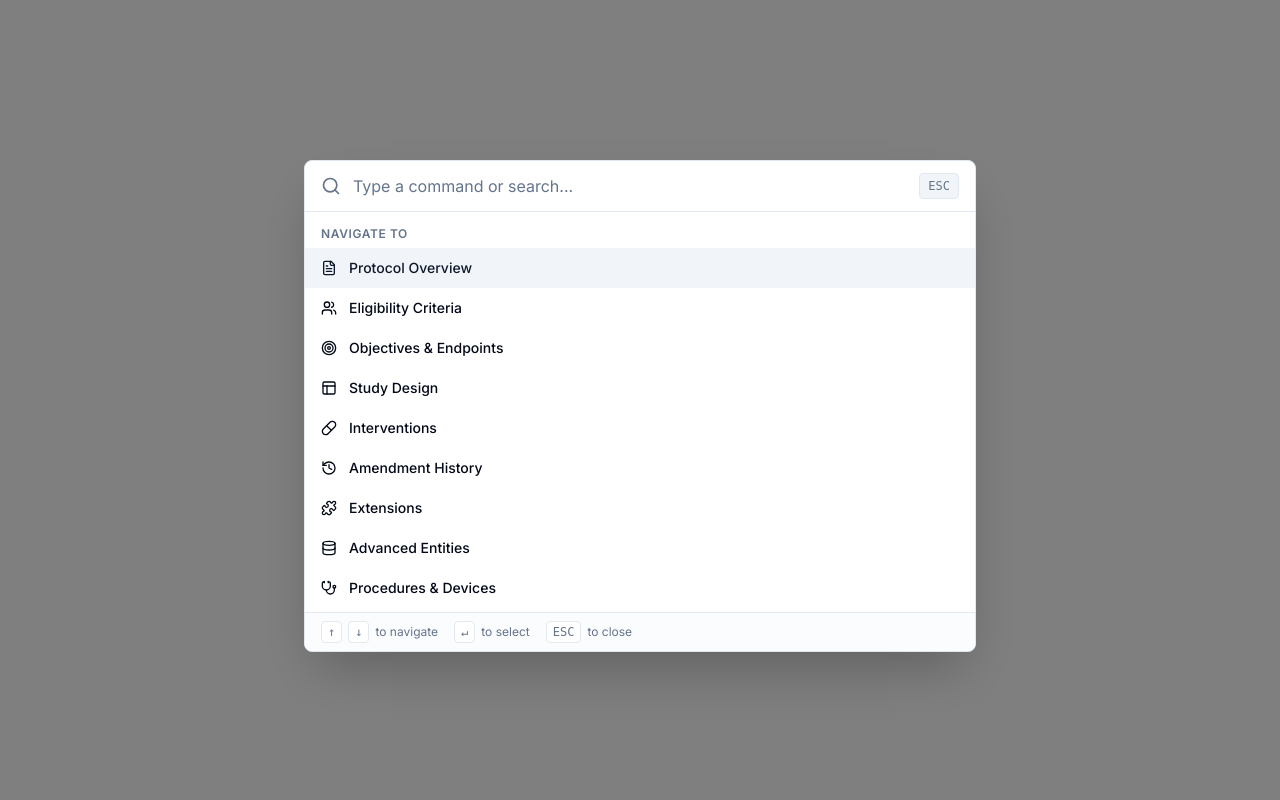
Test: CommandPalette › Fuzzy Search › should reset results when query is cleared
The image size is (1280, 800).
# Type query
Type "soa" into the field with placeholder "Type a command or search..." at [630, 186], box [353,174,907,198]
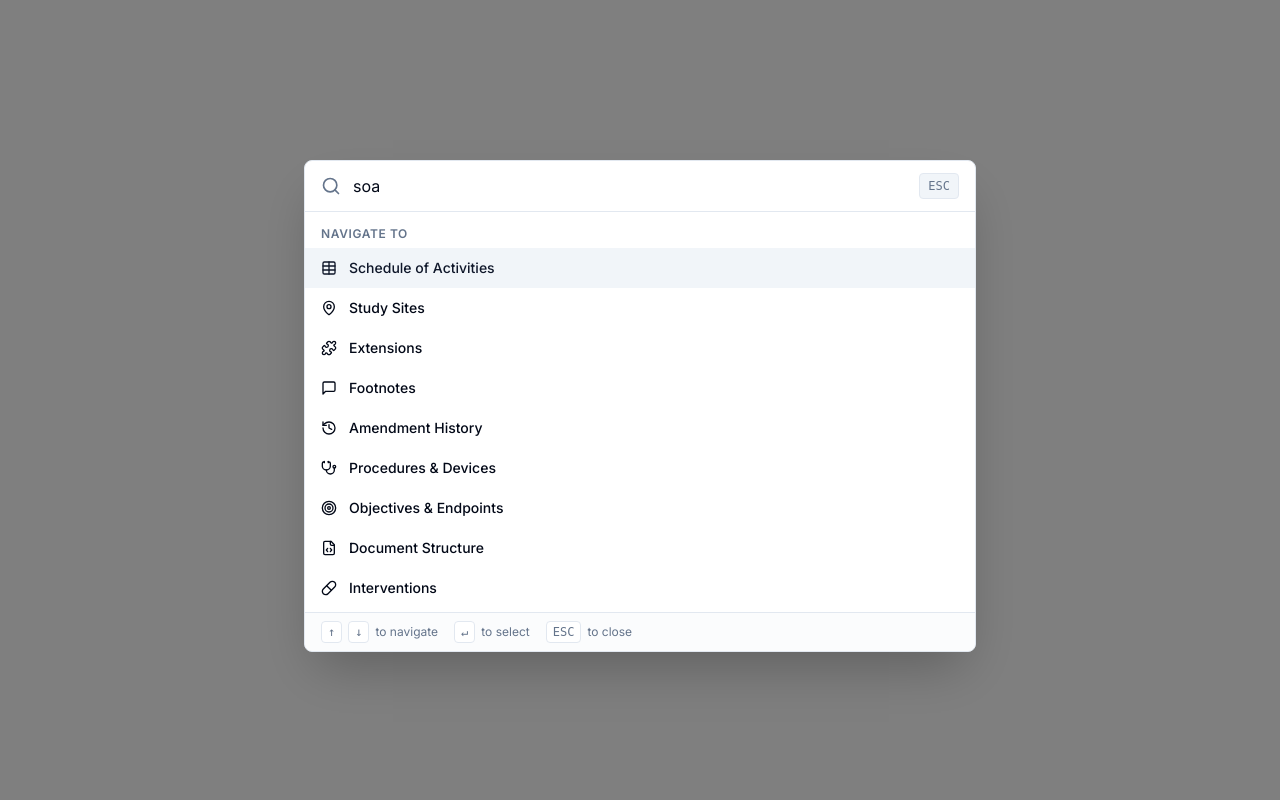
Now the option "Protocol Overview" is gone
# Clear query
Clear the field with placeholder "Type a command or search..." at [630, 186], box [353,174,907,198]
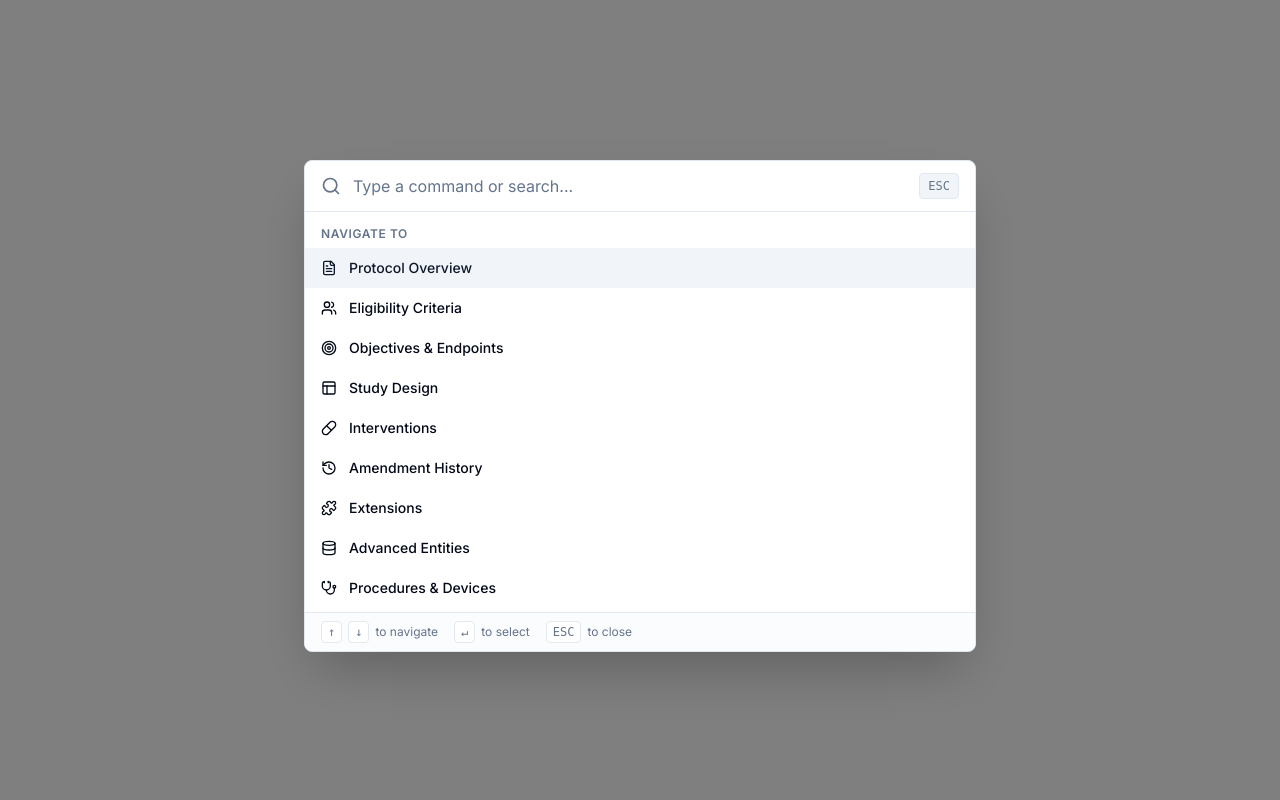
Now the text "Protocol Overview" is shown, box [349,259,472,276]
